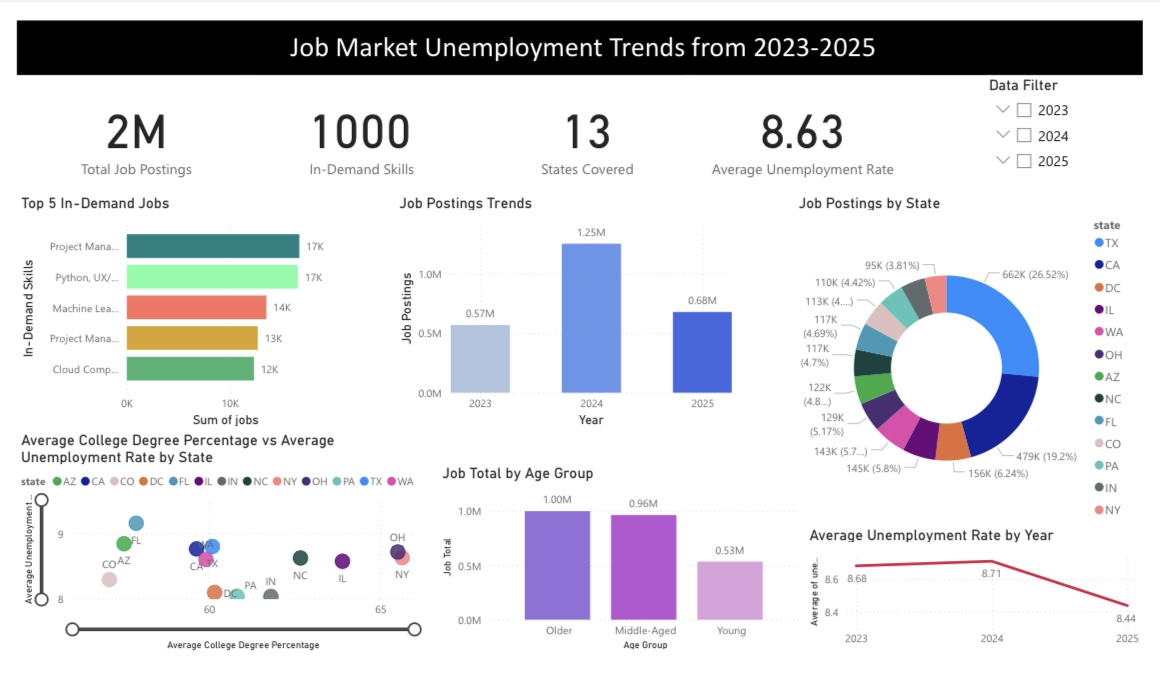

What the dashboard file says about the page in this screenshot:
{"tool":"powerbi","page":{"name":"Page 1","canvas":[1280,720],"ordinal":0},"visuals":[{"type":"textbox","box":[0,0,1280,62.5],"z":0},{"type":"card","fields":{"Values":["Sum(job_unemployment_trends.jobs)"]},"box":[0,62.5,272.3,134.4],"z":0,"group":"g1"},{"type":"clusteredColumnChart","title":"Job Postings Trends","fields":{"Category":["job_unemployment_trends.set_year"],"Y":["Sum(job_unemployment_trends.jobs)"]},"box":[429.8,196.9,388.2,268.9],"z":1000},{"type":"group","id":"g1","title":"Group 1","box":[0,62.5,1028.2,134.4],"z":2000},{"type":"clusteredColumnChart","fields":{"Category":["job_unemployment_trends.average_age_group"],"Y":["Sum(job_unemployment_trends.jobs)"]},"box":[479.1,503.7,416.6,215.9],"z":3000},{"type":"card","fields":{"Values":["CountNonNull(job_unemployment_trends.in_demand_skills)"]},"box":[254,62.5,272.3,134.4],"z":4000,"group":"g1"},{"type":"scatterChart","title":"Average College Degree Percentage vs Average Unemployment Rate by State","fields":{"X":["Avg(job_unemployment_trends.college_degree_percentage)"],"Y":["Avg(job_unemployment_trends.unemployment_rate)"],"Series":["job_unemployment_trends.state"]},"box":[0,465.8,463.9,253.7],"z":4000},{"type":"card","fields":{"Values":["Count(job_unemployment_trends.state)"]},"box":[526.3,62.5,244.9,134.4],"z":5000,"group":"g1"},{"type":"donutChart","title":"Job Postings by State","fields":{"Category":["job_unemployment_trends.state"],"Y":["Sum(job_unemployment_trends.jobs)"]},"box":[884.3,196.9,395.7,376.8],"z":5000},{"type":"card","fields":{"Values":["Avg(job_unemployment_trends.unemployment_rate)"]},"box":[759,62.5,269.2,134.4],"z":6000,"group":"g1"},{"type":"slicer","title":"Data Filter","fields":{"Values":["job_unemployment_trends.set_year","job_unemployment_trends.average_age_group","job_unemployment_trends.state","job_unemployment_trends.in_demand_skills","job_unemployment_trends.jobs","job_unemployment_trends.college_degree_percentage","job_unemployment_trends.unemployment_rate"]},"box":[1028.2,62.5,251.8,130.7],"z":6000},{"type":"lineChart","title":"Average Unemployment Rate by Year","fields":{"Category":["job_unemployment_trends.set_year"],"Y":["Avg(job_unemployment_trends.unemployment_rate)"]},"box":[895.6,573.7,384.4,145.8],"z":7000},{"type":"clusteredBarChart","title":"Top 5 In-Demand Jobs","fields":{"Y":["Sum(job_unemployment_trends.jobs)"],"Category":["job_unemployment_trends.in_demand_skills"]},"box":[0,196.9,365.4,268.9],"z":8000}]}

Visuals, with their boxes on the page's 1280x720 design canvas (x1, y1, x2, y2). These are canvas units, not pixel positions in the 1160x673 screenshot, which may show the page scaled, cropped or inside an application window:
textbox: bbox=[0, 0, 1280, 62]
card - Sum(job_unemployment_trends.jobs): bbox=[0, 62, 272, 197]
"Job Postings Trends" clusteredColumnChart: bbox=[430, 197, 818, 466]
"Group 1" group: bbox=[0, 62, 1028, 197]
clusteredColumnChart - job_unemployment_trends.average_age_group x Sum(job_unemployment_trends.jobs): bbox=[479, 504, 896, 720]
card - CountNonNull(job_unemployment_trends.in_demand_skills): bbox=[254, 62, 526, 197]
"Average College Degree Percentage vs Average Unemployment Rate by State" scatterChart: bbox=[0, 466, 464, 720]
card - Count(job_unemployment_trends.state): bbox=[526, 62, 771, 197]
"Job Postings by State" donutChart: bbox=[884, 197, 1280, 574]
card - Avg(job_unemployment_trends.unemployment_rate): bbox=[759, 62, 1028, 197]
"Data Filter" slicer: bbox=[1028, 62, 1280, 193]
"Average Unemployment Rate by Year" lineChart: bbox=[896, 574, 1280, 720]
"Top 5 In-Demand Jobs" clusteredBarChart: bbox=[0, 197, 365, 466]
